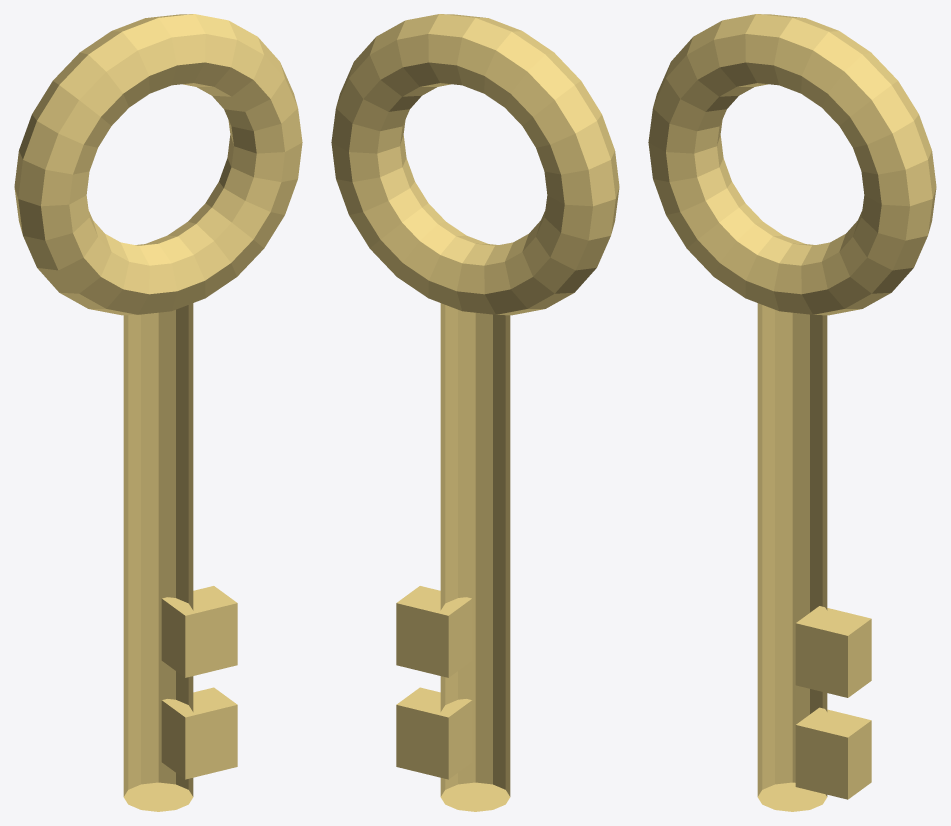
The model's file is key.glb.
The picture shows the model from 3 angles, left to right: view 1: azimuth 30°, elevation 25°; view 2: azimuth 150°, elevation 25°; view 3: azimuth 330°, elevation 25°; orthographic projection.
Parts seen in each view (by area): view 1: key; view 2: key; view 3: key.
Part boxes in pixels (x1,y1,x2,y2): key: (14,14,302,811); key: (331,14,619,811); key: (648,14,936,811).
Bounding box in the file's own units: 0.26 × 0.69 × 0.06.
